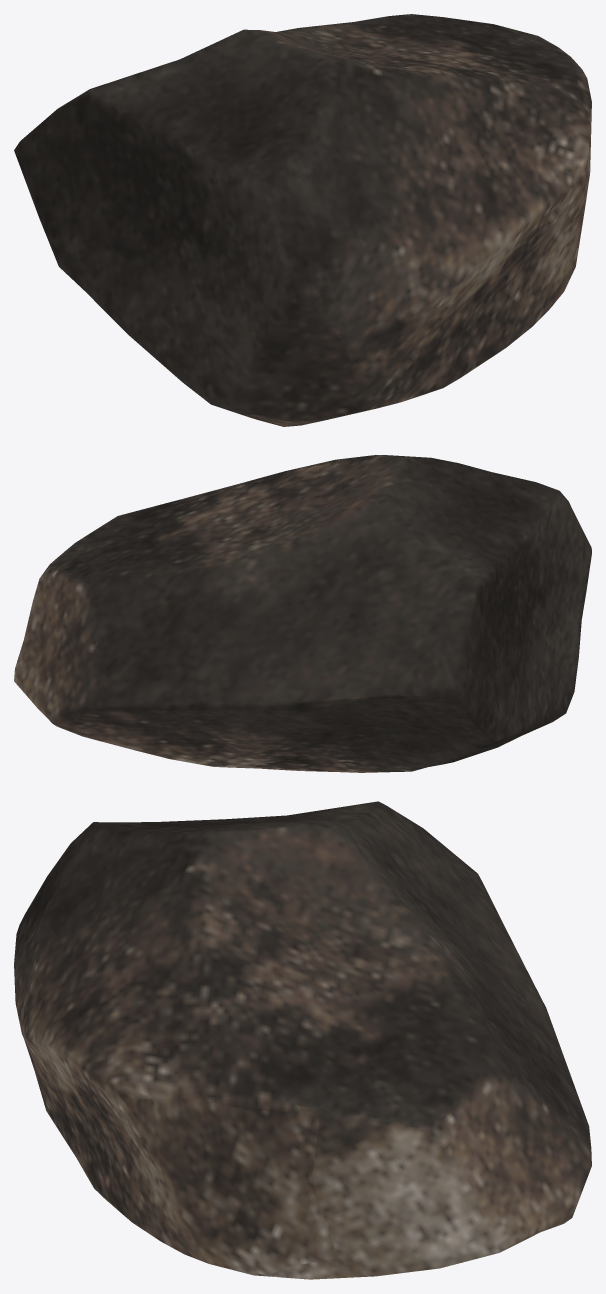
The model's file is SM_RP_Rock_2m_5.glb.
3 views of the same model, one above another, from view 1: azimuth 30°, elevation 25°; view 2: azimuth 150°, elevation 25°; view 3: azimuth 270°, elevation 25° (orthographic). The views are drawn at different scales.
Parts seen in each view (by area): view 1: SM_RP_Rock_2m_5; view 2: SM_RP_Rock_2m_5; view 3: SM_RP_Rock_2m_5.
Part boxes in pixels (x1,y1,x2,y2): SM_RP_Rock_2m_5: (14,14,591,426); SM_RP_Rock_2m_5: (14,455,591,772); SM_RP_Rock_2m_5: (14,801,591,1279).
Size of the model in its own units: 3.14 by 2.02 by 2.89.
1 material, 1 textured.
